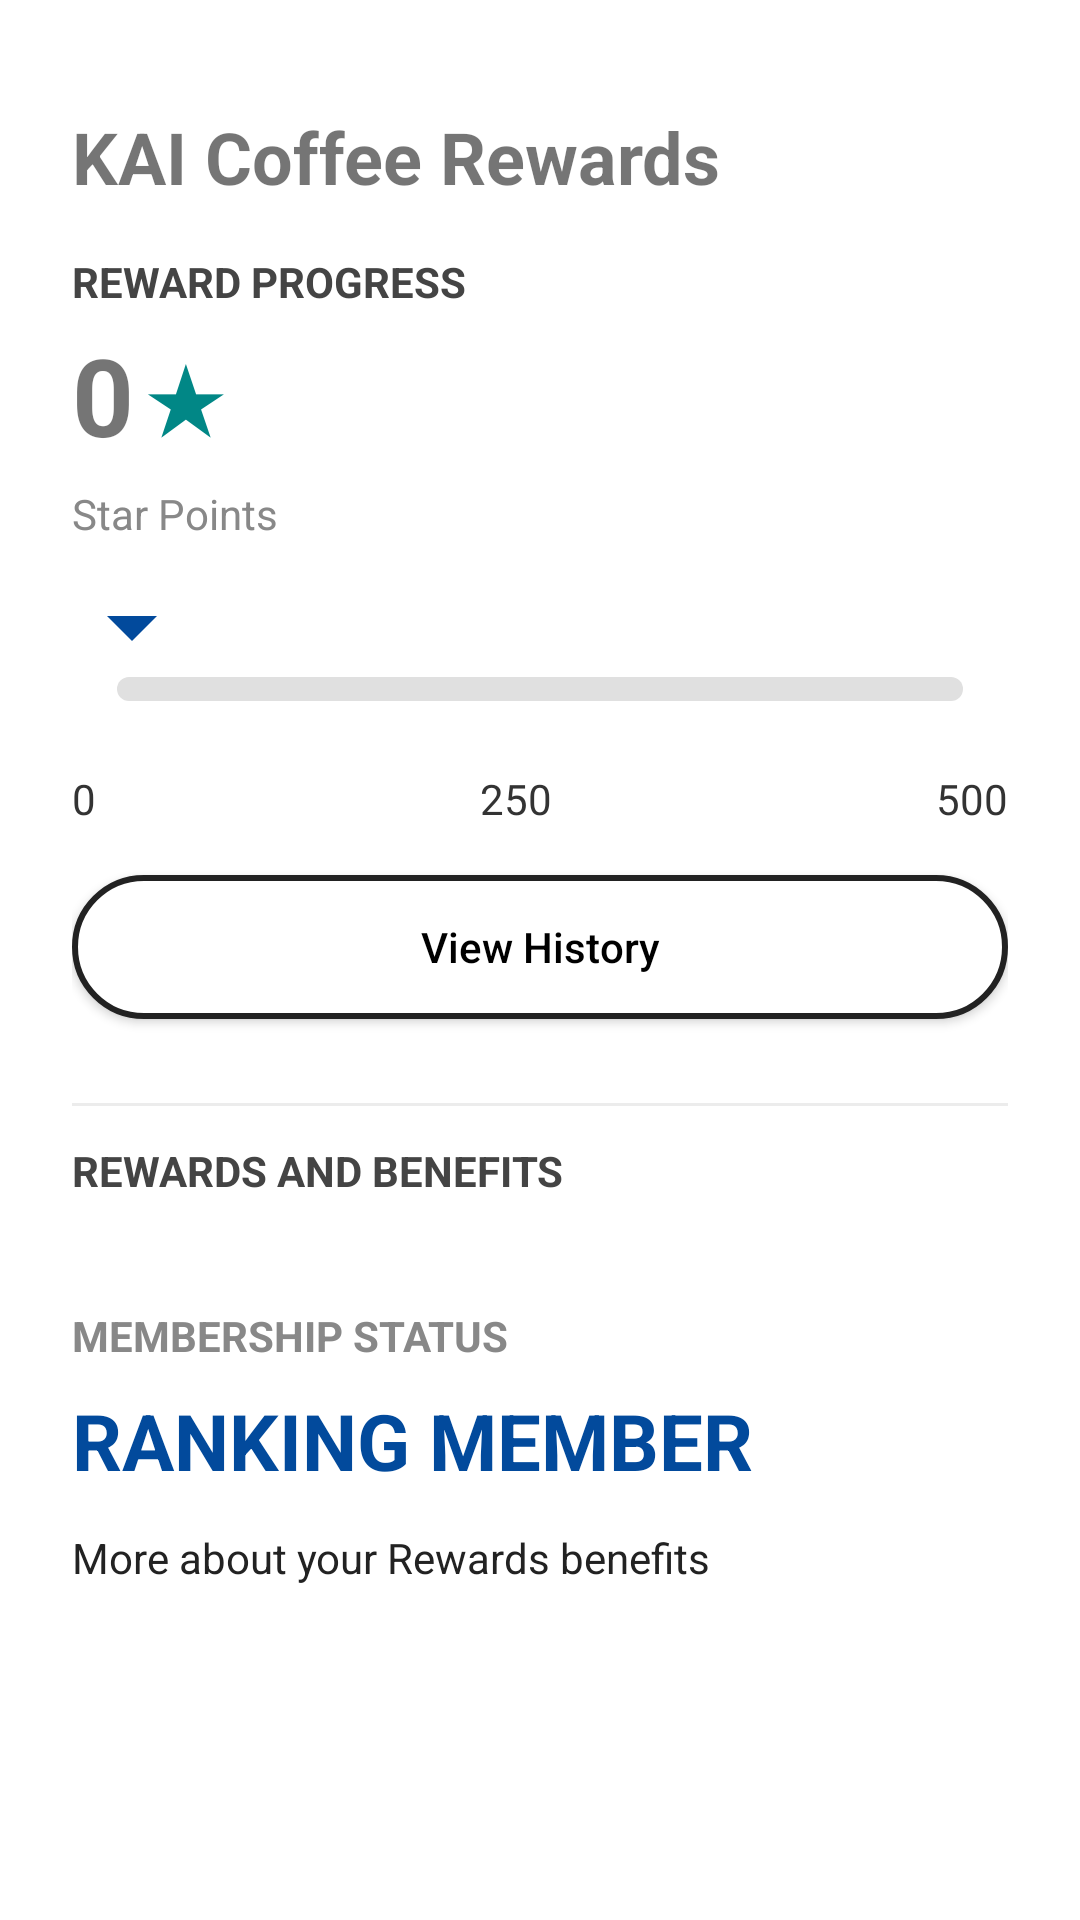

Named icons in this screenshot (1080px x 1920px) and their centers, point (x, y):
pointer: point (132, 628)
